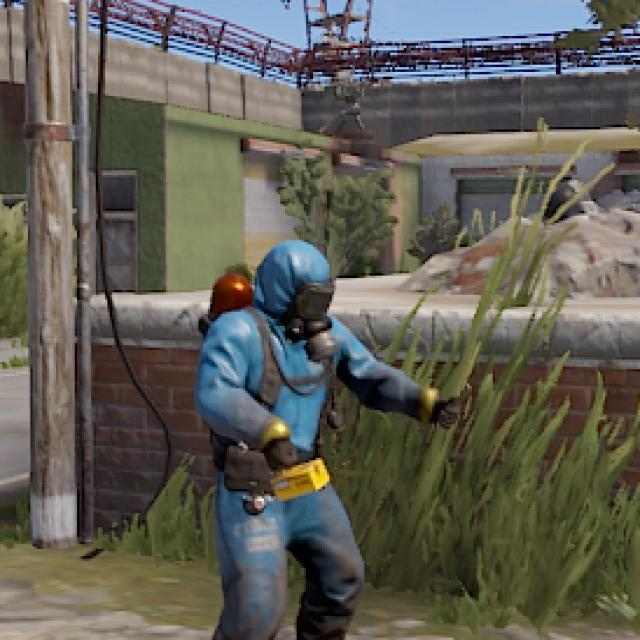Player: (196, 237, 372, 640)
